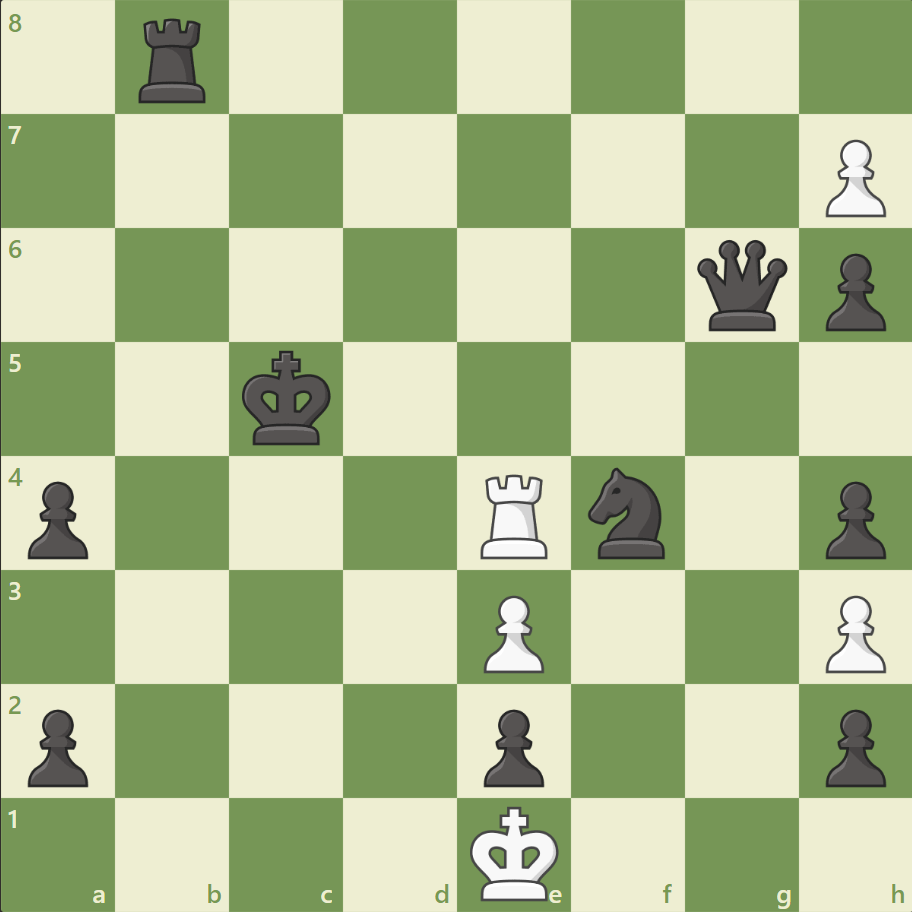K: (465, 798, 565, 906)
P: (474, 586, 549, 677), (815, 132, 889, 223), (815, 586, 889, 677)
R: (473, 466, 556, 563)
k: (238, 344, 338, 452)
n: (579, 461, 676, 564)
p: (20, 473, 95, 564), (20, 700, 95, 791), (474, 700, 549, 791), (815, 246, 889, 337), (815, 473, 889, 564), (815, 700, 889, 791)
q: (691, 236, 790, 335)
r: (133, 12, 215, 109)
